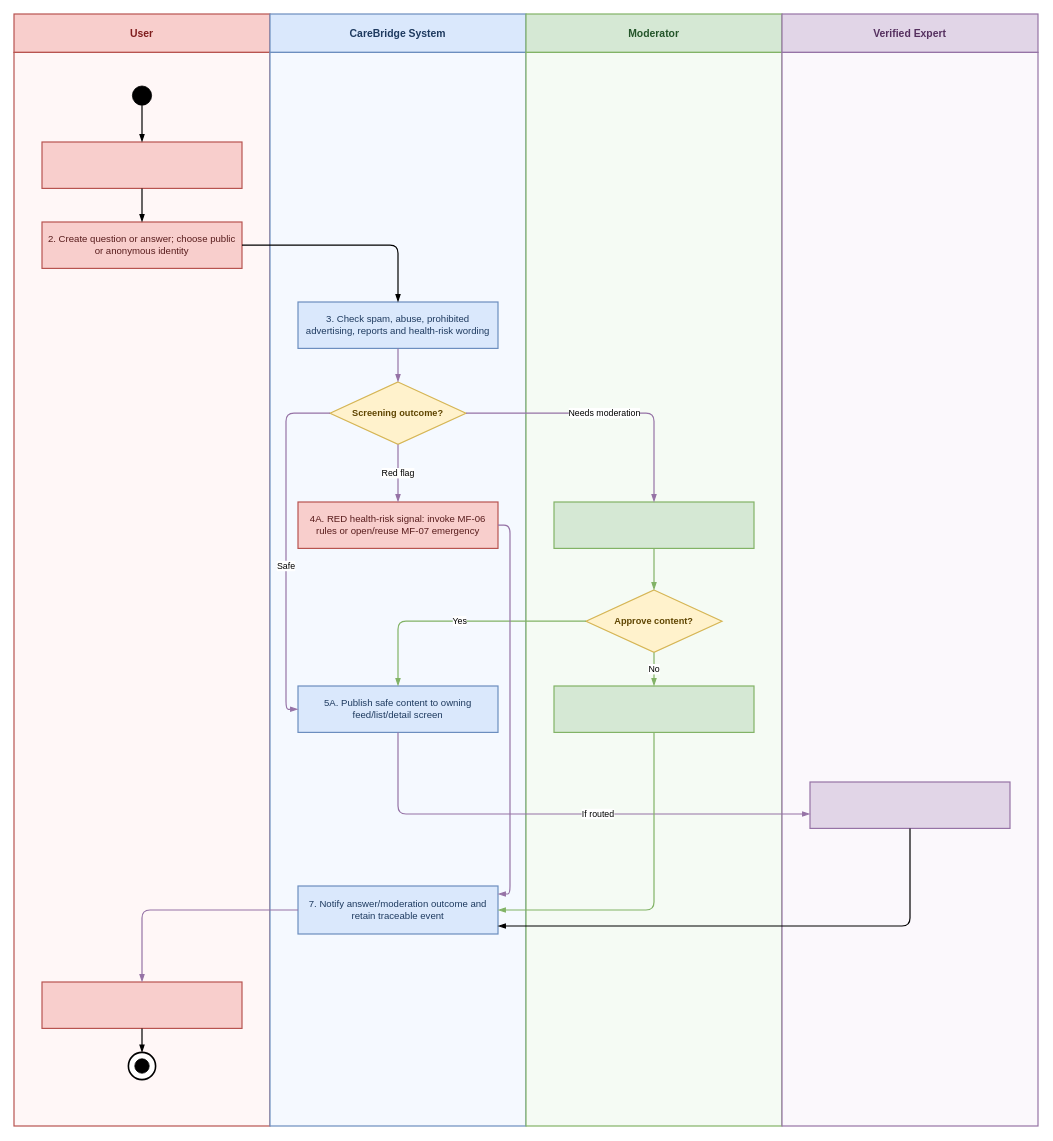
The diagram is 1053 pixels wide and 1141 high, and some of its shapes have lost their labels. The shapes that lost their labels are listed below. From the top down, each one's centre as x and y in pixels, then its label:
At point (141, 165): "1. View feed, search/filter topics or open question detail".
At point (653, 525): "4B. Review pending content, report evidence and topic-governance issue".
At point (653, 709): "5B. Hide, reject, lock, warn, suspend or request edit; record audit outcome".
At point (909, 805): "6. Add verified-expert answer with label and scoped visibility".
At point (141, 1005): "8. Edit or soft-delete own post/answer when ownership and locks allow".
